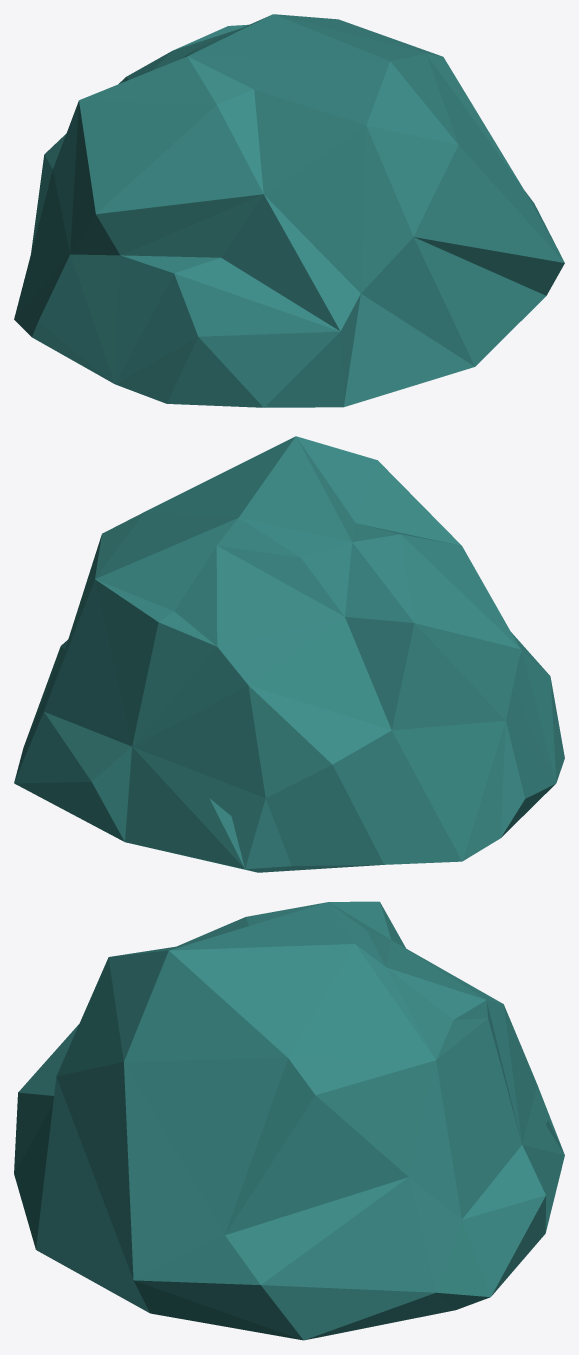
The model's file is SM_Sea_Vegetation_Small_A.fbx.
3 renders of one model, top to bottom at view 1: azimuth 30°, elevation 25°; view 2: azimuth 150°, elevation 25°; view 3: azimuth 270°, elevation 25°, orthographic. The views are drawn at different scales.
Parts seen in each view (by area): view 1: sea-vegetation-small-a; view 2: sea-vegetation-small-a; view 3: sea-vegetation-small-a.
Part boxes in pixels (box(x1,y1,x2,y2)): sea-vegetation-small-a: box(14, 14, 564, 407); sea-vegetation-small-a: box(14, 436, 564, 872); sea-vegetation-small-a: box(14, 901, 564, 1340).
Size of the model in its own units: 0.6306 by 0.3495 by 0.588.
